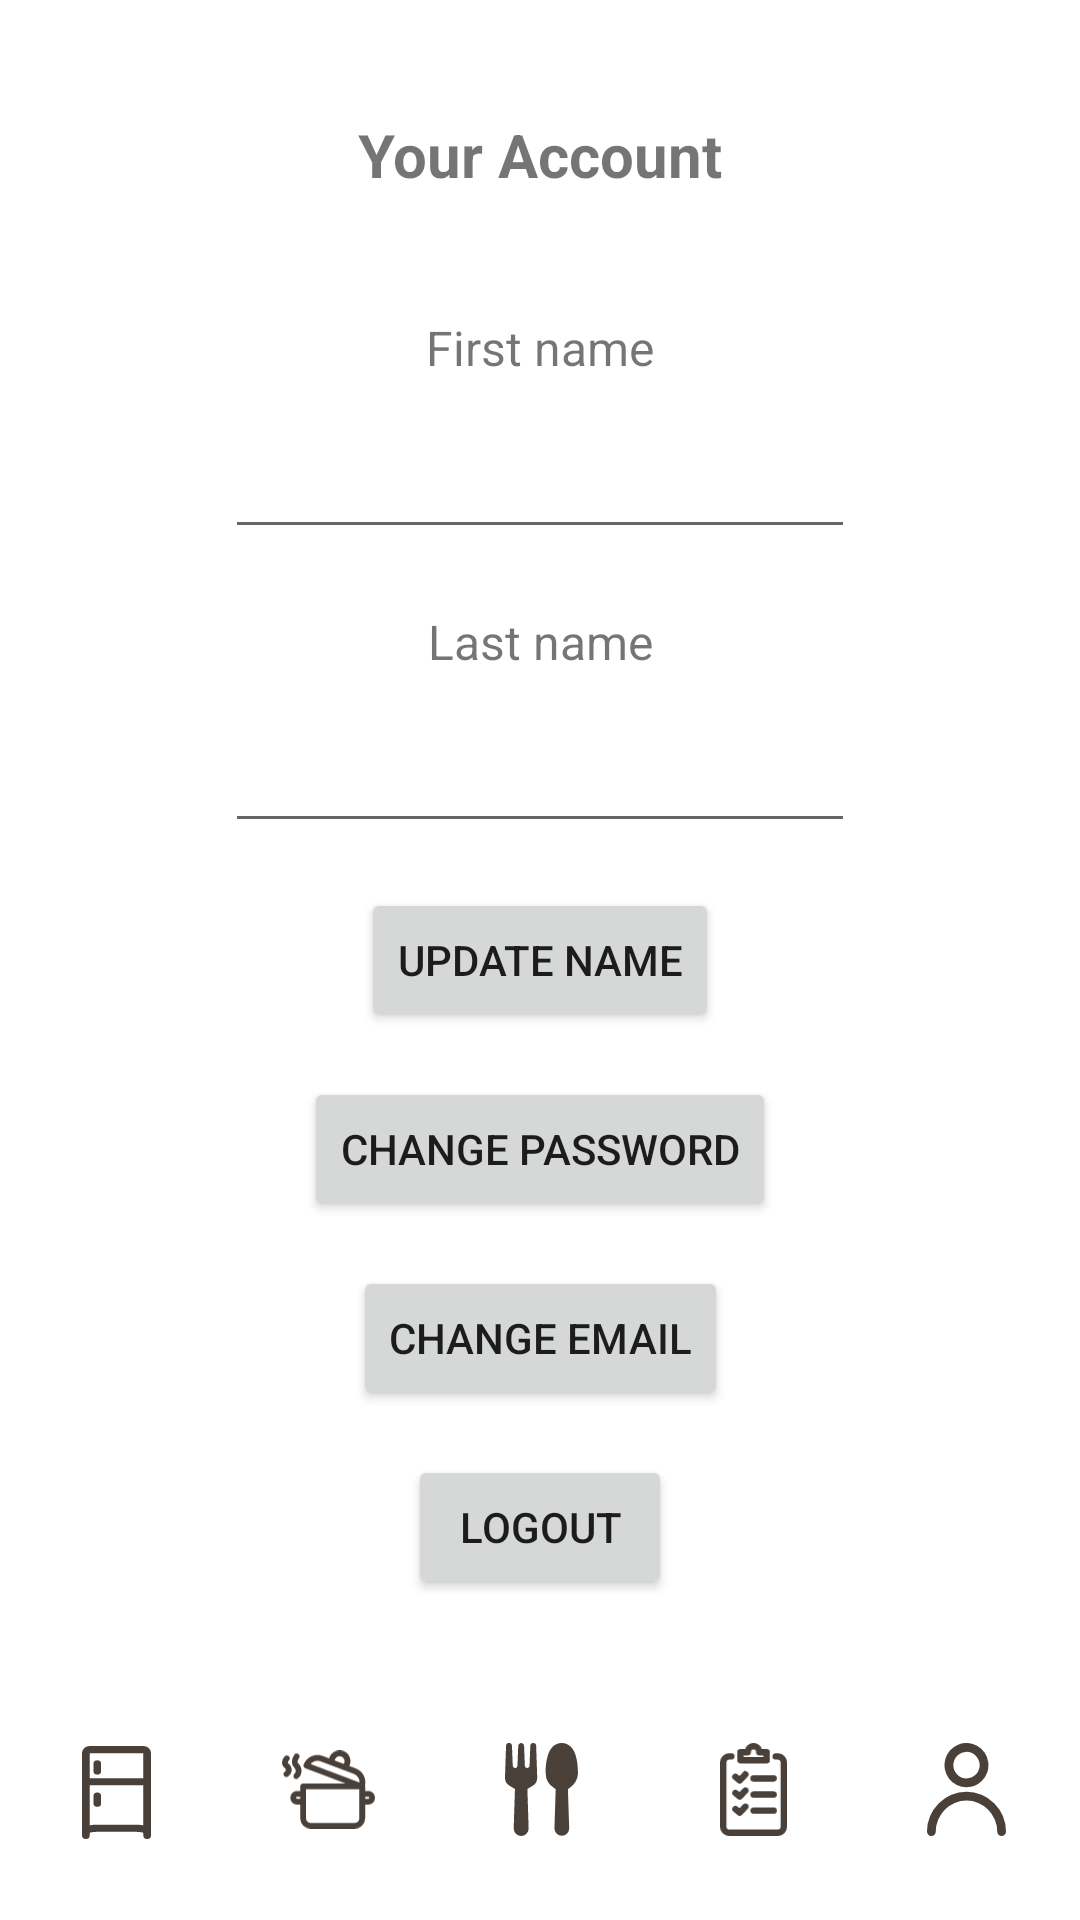

Where icons sit on this 1080 × 1920 app screen, as (left=x1, top=y1, right=x2, bottom=y2):
Checklist: (left=720, top=1743, right=787, bottom=1836)
Cooking List: (left=282, top=1750, right=375, bottom=1829)
Discovery: (left=505, top=1743, right=578, bottom=1836)
Fridge: (left=82, top=1746, right=151, bottom=1839)
User Info: (left=927, top=1743, right=1006, bottom=1836)
